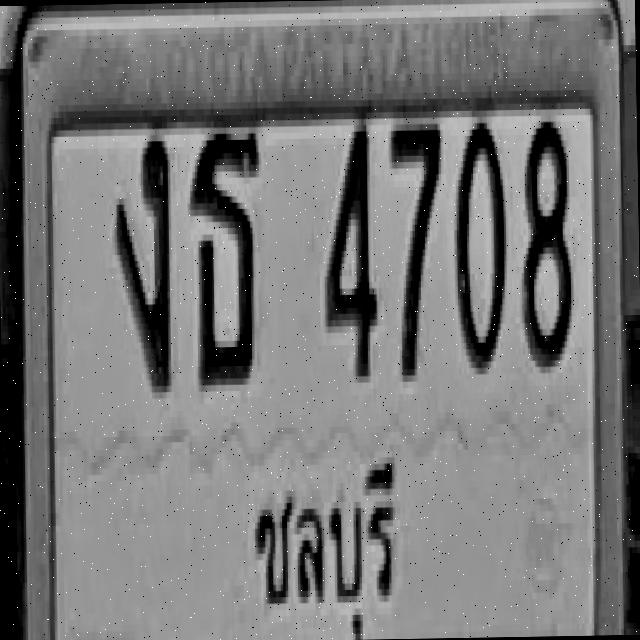0: (453, 112, 506, 370)
16NgorNgu: (112, 128, 174, 392)
33ThorThong: (188, 120, 264, 385)
4: (322, 112, 378, 376)
7: (388, 114, 443, 378)
8: (518, 115, 572, 366)
Chonburi: (246, 431, 400, 640)
